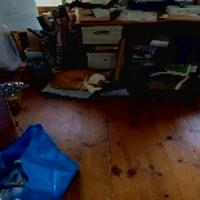asleep: (50, 68, 109, 91)
